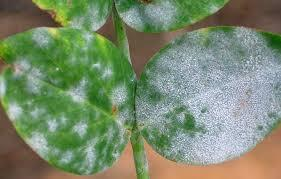powdery_mildew: (6, 5, 281, 177)
